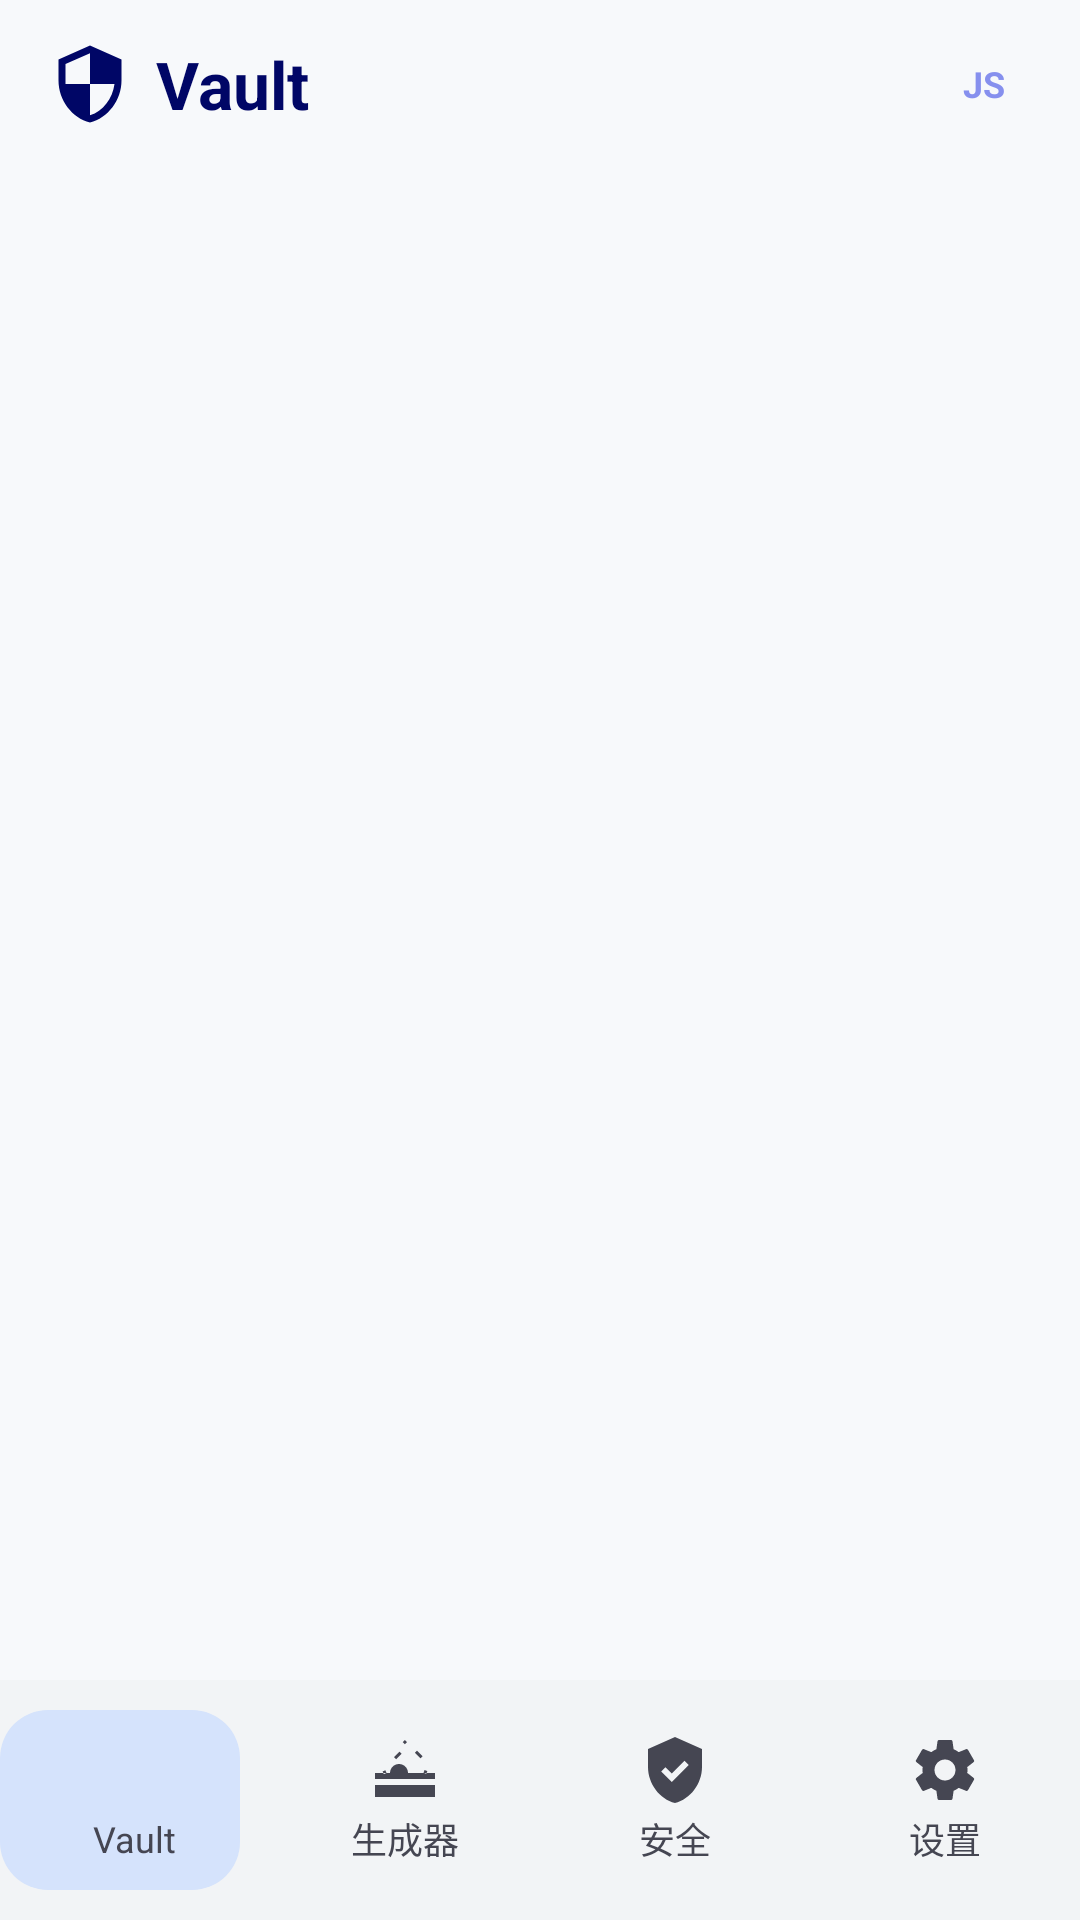

Named icons in this screenshot (1080×1920) and their bounding boxes, (x1, y1, x2, y2):
shield: (58, 45, 122, 123)
verified user: (648, 1737, 702, 1803)
